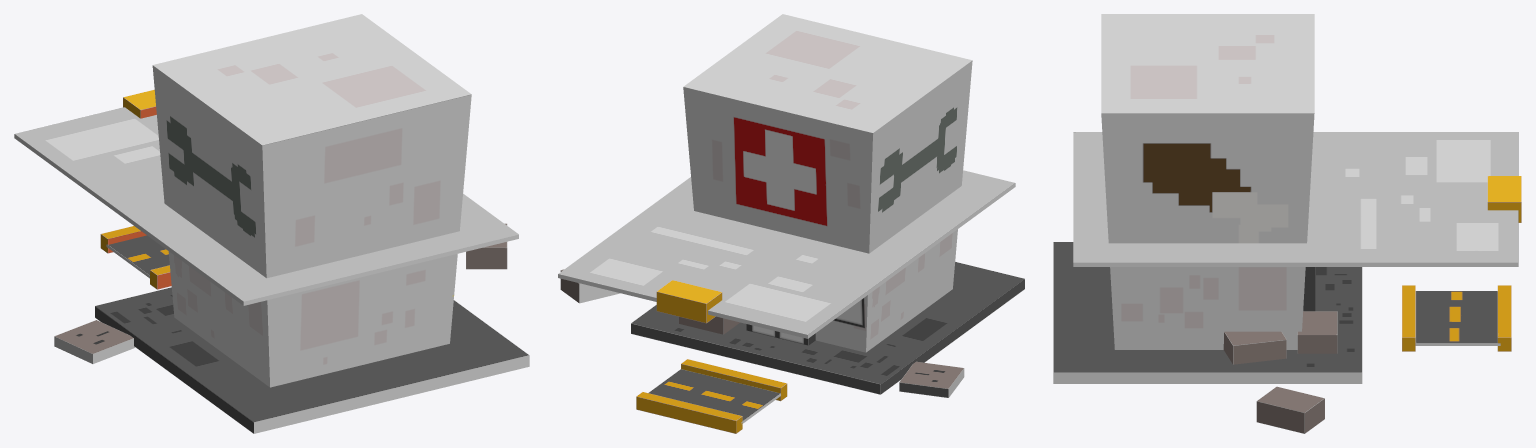
File: Store.obj
3 renders of one model, left to right at view 1: azimuth 30°, elevation 25°; view 2: azimuth 150°, elevation 25°; view 3: azimuth 270°, elevation 25°, orthographic. The views are drawn at different scales.
Visible parts, largest first — view 1: cuboid; view 2: cuboid; view 3: cuboid.
Part boxes in pixels (x1,y1,x2,y2): cuboid: [14, 14, 529, 433]; cuboid: [558, 14, 1024, 433]; cuboid: [1053, 14, 1521, 433].
Bounding box in the file's own units: 19.98 × 11.69 × 18.94.
